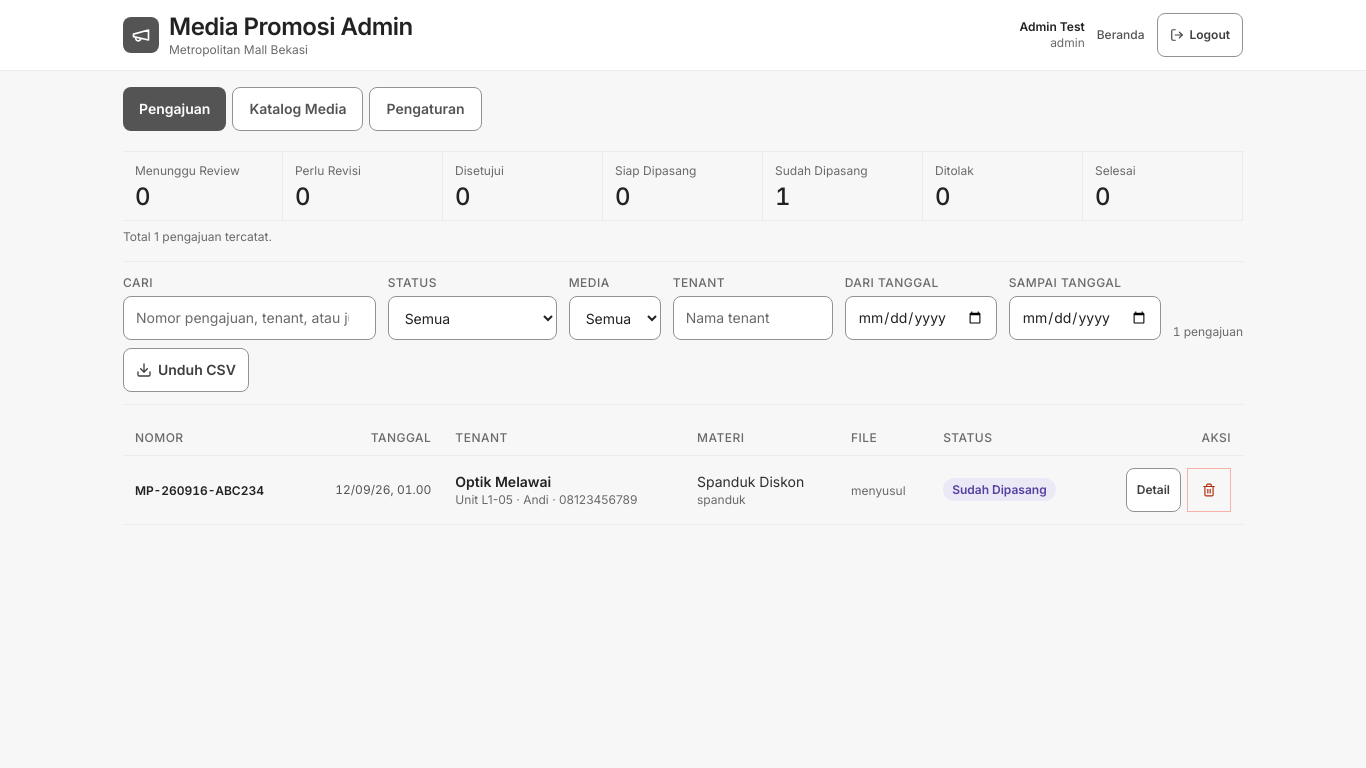
Test: AdminDashboardPage - bukti tayang kanal unggahan › kanal unggahan → staf melihat tautan bukti, nama berkas, dan pengunggah
This screenshot has width=1366, height=768.
Expected: the text "Optik Melawai" is shown, x1=455 y1=472 x2=551 y2=490
Click the button "Detail" at (1153, 490), box x1=1126 y1=468 x2=1181 y2=512
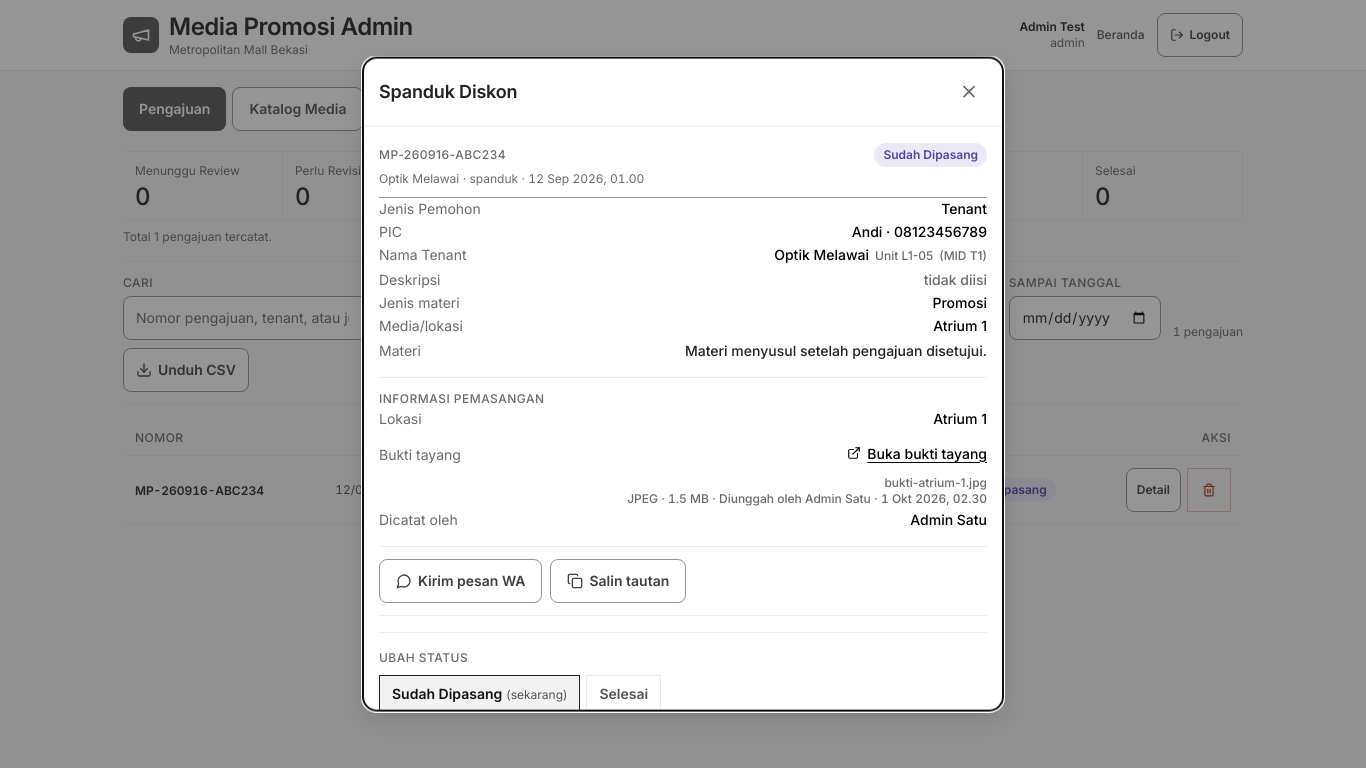
Expected: the text "Informasi pemasangan" is shown, x1=379 y1=391 x2=544 y2=406
Expected: the text "bukti-atrium-1.jpg" is shown, x1=884 y1=475 x2=987 y2=490
Expected: the text "JPEG · 1.5 MB · Diunggah oleh Admin Satu · 1 Okt 2026, 02.30" is shown, x1=627 y1=491 x2=987 y2=507
